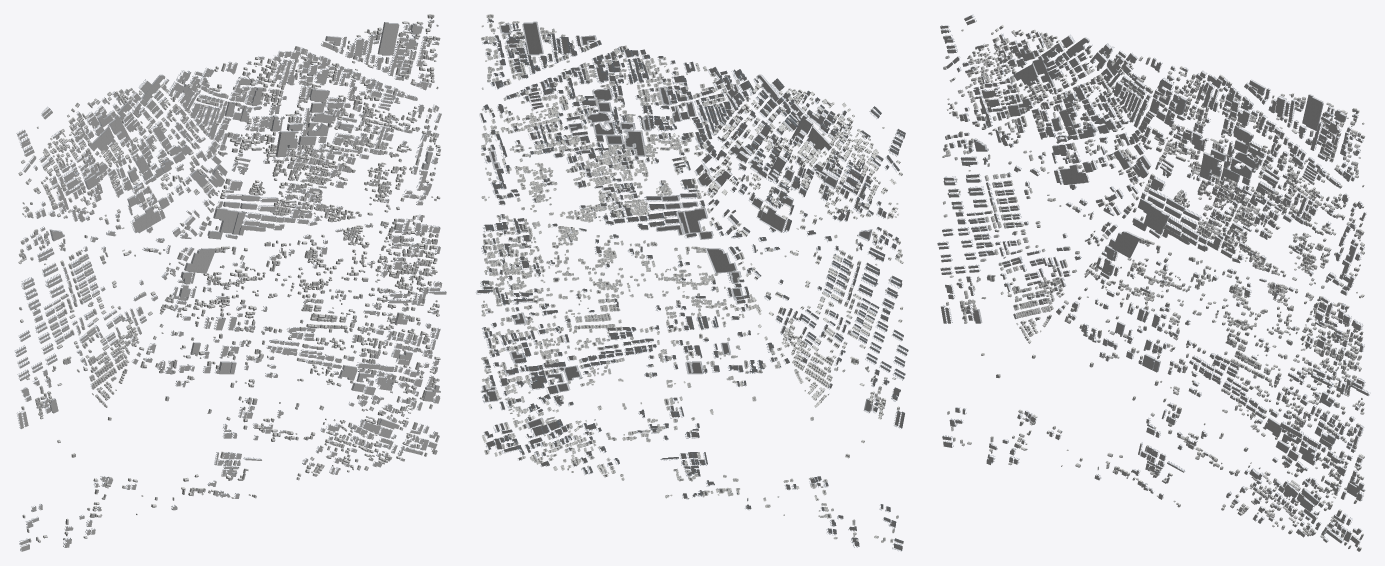
Rendered from buildings_2_3.obj.
3 renders of one model, left to right at view 1: azimuth 30°, elevation 25°; view 2: azimuth 150°, elevation 25°; view 3: azimuth 330°, elevation 25°, orthographic.
Bounding box in the file's own units: 2058 × 2048 × 26.7.
5 materials, 5 textured.
